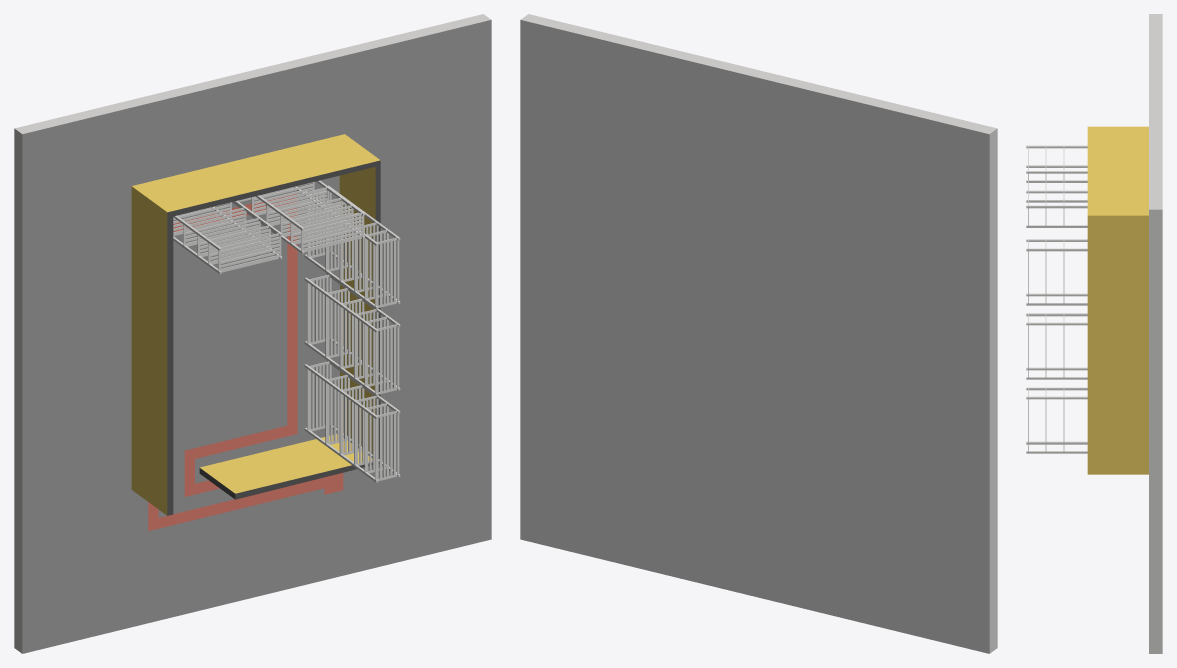
Rendered from arena.dae.
3 views of the same model, side by side, from view 1: azimuth 30°, elevation 25°; view 2: azimuth 150°, elevation 25°; view 3: azimuth 270°, elevation 25° (orthographic). The views are drawn at different scales.
Parts seen in each view (by area): view 1: arena; view 2: arena; view 3: arena.
Part boxes in pixels (x1,y1,x2,y2): arena: (14, 14, 491, 653); arena: (520, 14, 997, 653); arena: (1026, 14, 1162, 653).
Size of the model in its own units: 6800 by 2000 by 7200.
